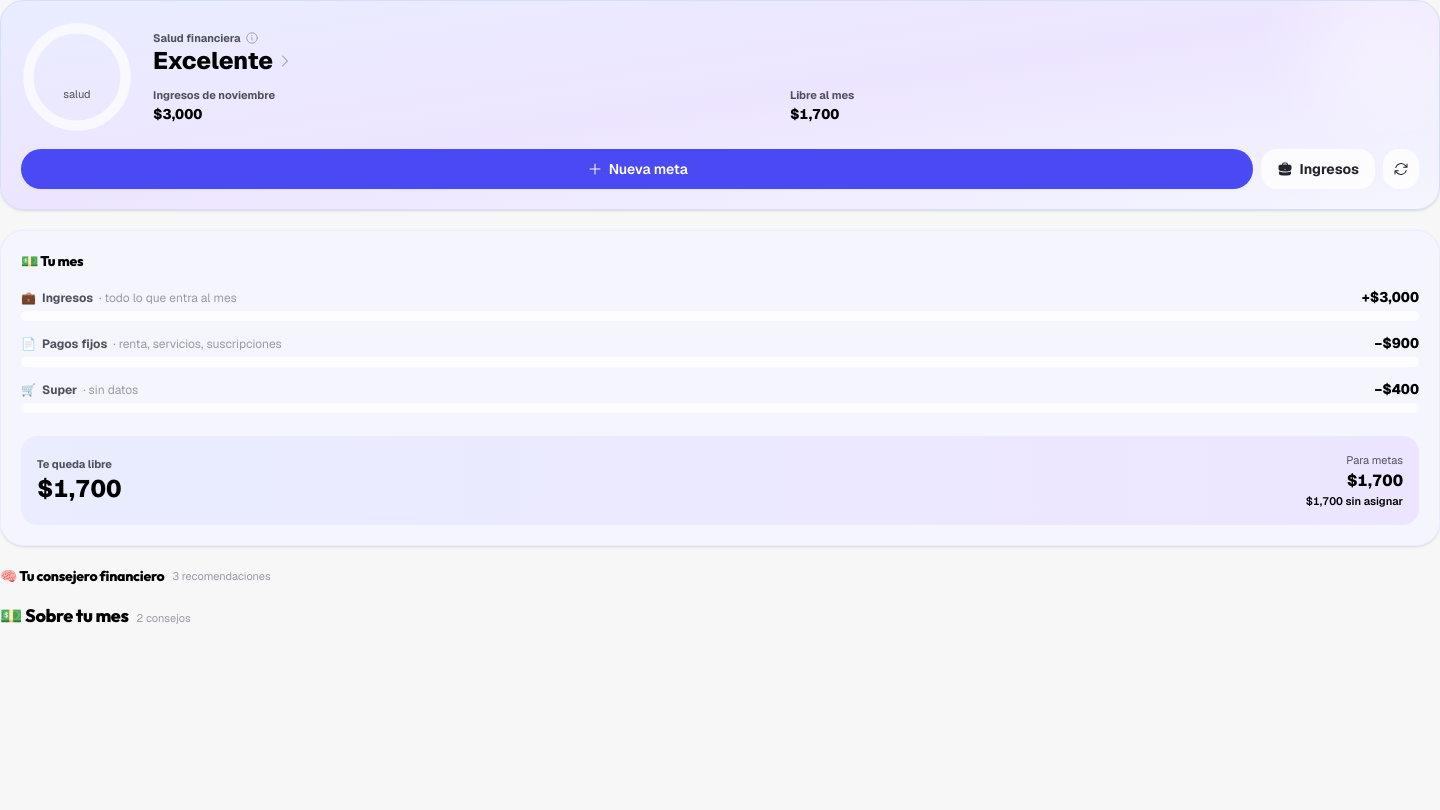
Test: FinancePlanView — la cabecera de salud responde al dedo › al tocarla se abre el desglose, con el periodo y las tres partes
Expected: the text "solo el mes en curso" is not shown
Click the button with aria-label "salud financiera:" at (720, 77), box [21,21,1419,133]
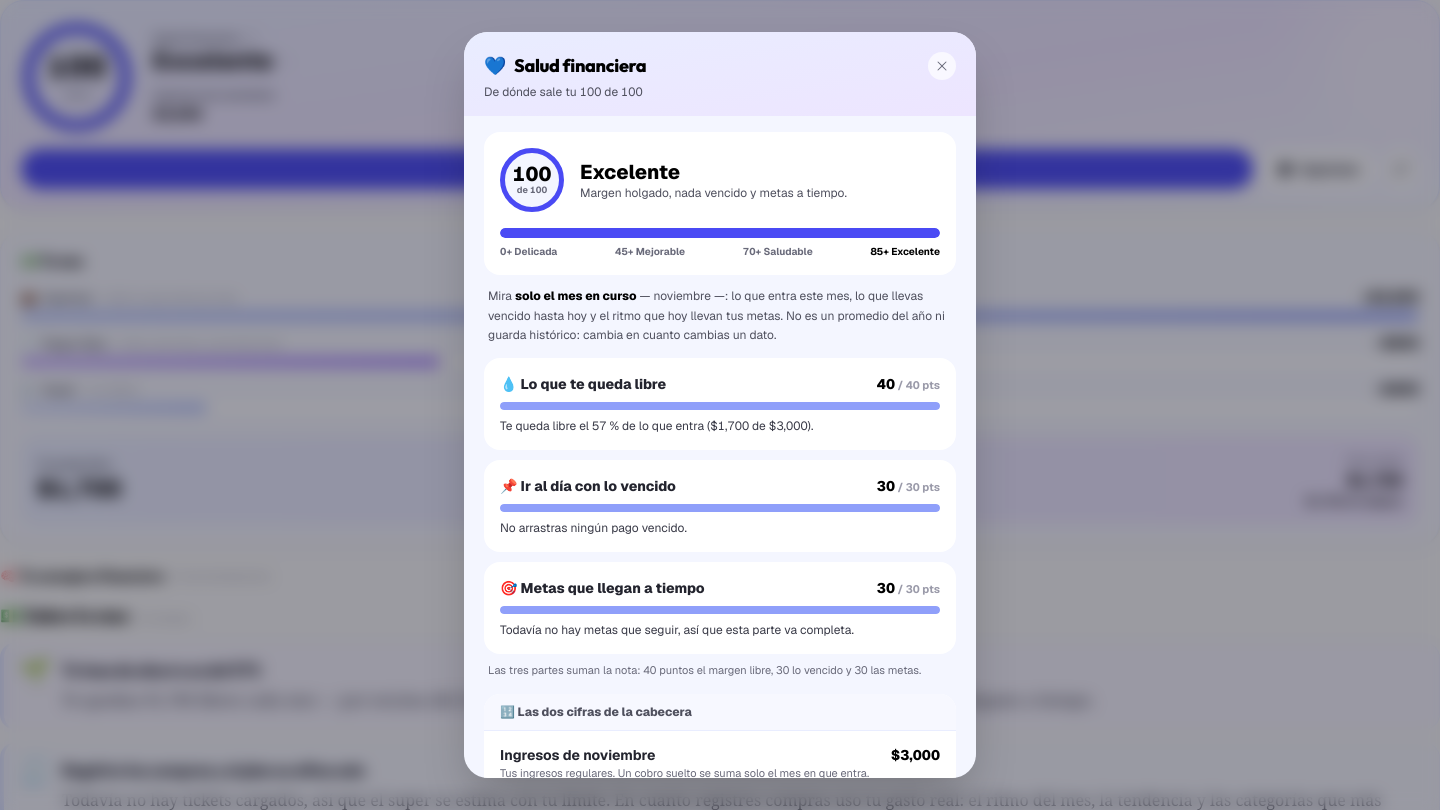
Now the text "De dónde sale tu 100 de 100" is shown, box [484,84,646,100]
Now the text "solo el mes en curso" is shown, box [515,288,637,304]
Now the text "Lo que te queda libre" is shown, box [521,375,666,393]
